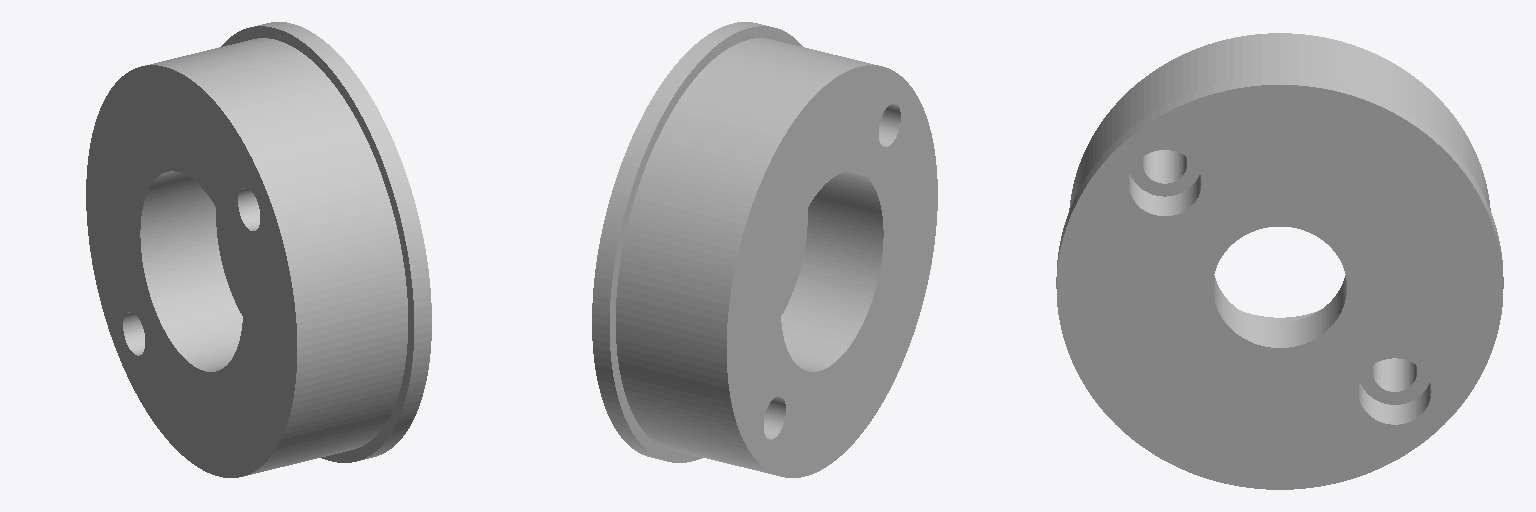
Rendered from Finger Unified Assembly - Finger Joint 1 Pulley.obj.
3 views of the same model, side by side, from view 1: azimuth 30°, elevation 25°; view 2: azimuth 150°, elevation 25°; view 3: azimuth 270°, elevation 25° (orthographic).
Parts seen in each view (by area): view 1: mesh6, mesh11, mesh10, mesh4, mesh5, mesh9, mesh0, mesh12; view 2: mesh6, mesh11, mesh10, mesh4, mesh5, mesh9, mesh12, mesh0; view 3: mesh3, mesh6, mesh4, mesh8, mesh2, mesh7, mesh0, mesh12, mesh13, mesh1.
Part boxes in pixels (x1,y1,x2,y2): mesh6: (145, 38, 407, 476); mesh11: (86, 65, 296, 477); mesh10: (140, 171, 242, 371); mesh4: (254, 22, 431, 460); mesh5: (221, 26, 413, 462); mesh9: (216, 208, 242, 315); mesh0: (238, 188, 259, 230); mesh12: (123, 312, 144, 355); mesh6: (616, 38, 878, 476); mesh11: (727, 65, 937, 477); mesh10: (781, 171, 883, 371); mesh4: (592, 22, 769, 460); mesh5: (610, 26, 802, 462); mesh9: (781, 208, 807, 315); mesh12: (764, 396, 785, 439); mesh0: (879, 104, 900, 146); mesh3: (1056, 85, 1503, 489); mesh6: (1069, 33, 1490, 210); mesh4: (1056, 76, 1503, 285); mesh8: (1213, 275, 1346, 347); mesh2: (1128, 174, 1201, 215); mesh7: (1358, 383, 1431, 424); mesh0: (1143, 150, 1186, 183); mesh12: (1373, 358, 1416, 391); mesh13: (1360, 365, 1429, 404); mesh1: (1130, 156, 1199, 196).
Bounding box in the file's own units: 0.0073 × 0.022 × 0.022.